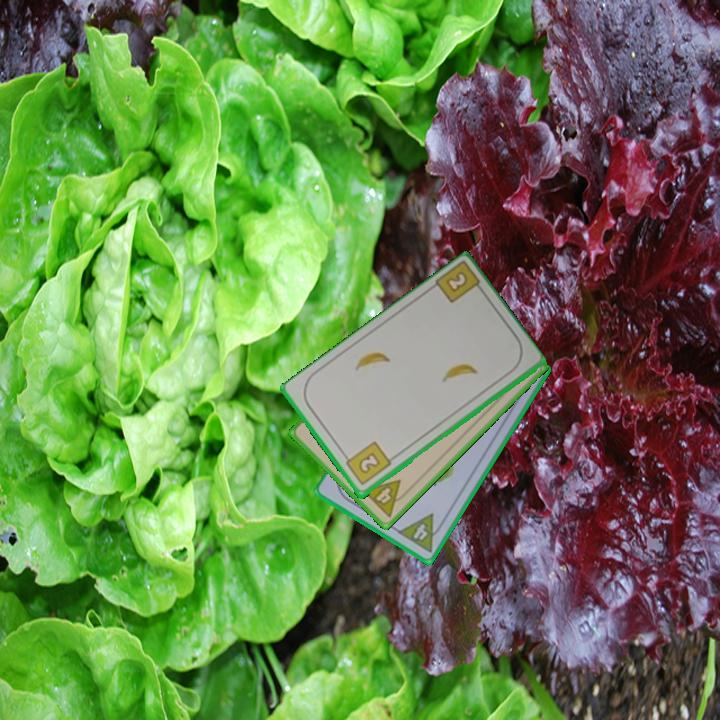2b: (340, 438, 394, 488), (442, 268, 471, 295)
4p: (394, 510, 448, 556), (358, 476, 413, 520)
